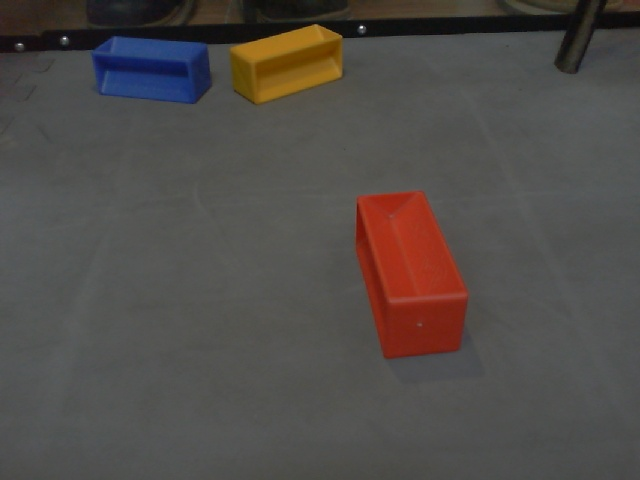BlueSample: (88, 33, 214, 107)
RedSample: (352, 190, 471, 361)
YellowSample: (225, 22, 345, 106)
